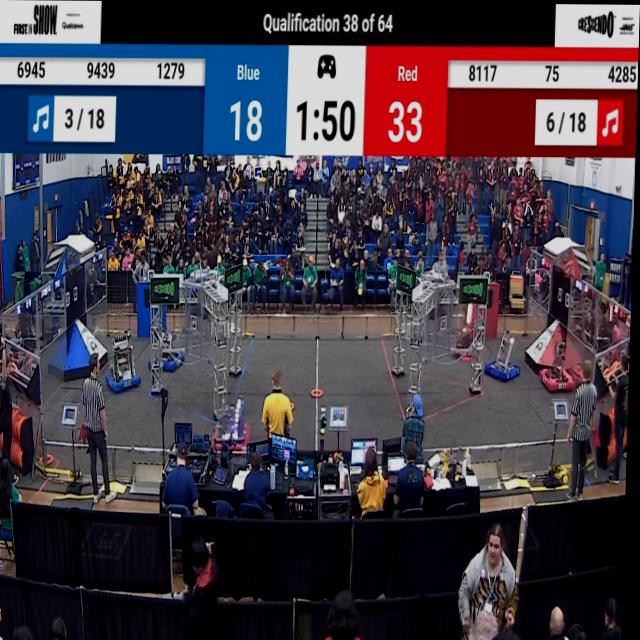Robot: (214, 390, 256, 455), (538, 325, 577, 395), (151, 311, 188, 377), (106, 334, 142, 397), (456, 301, 491, 364), (489, 326, 524, 387)
